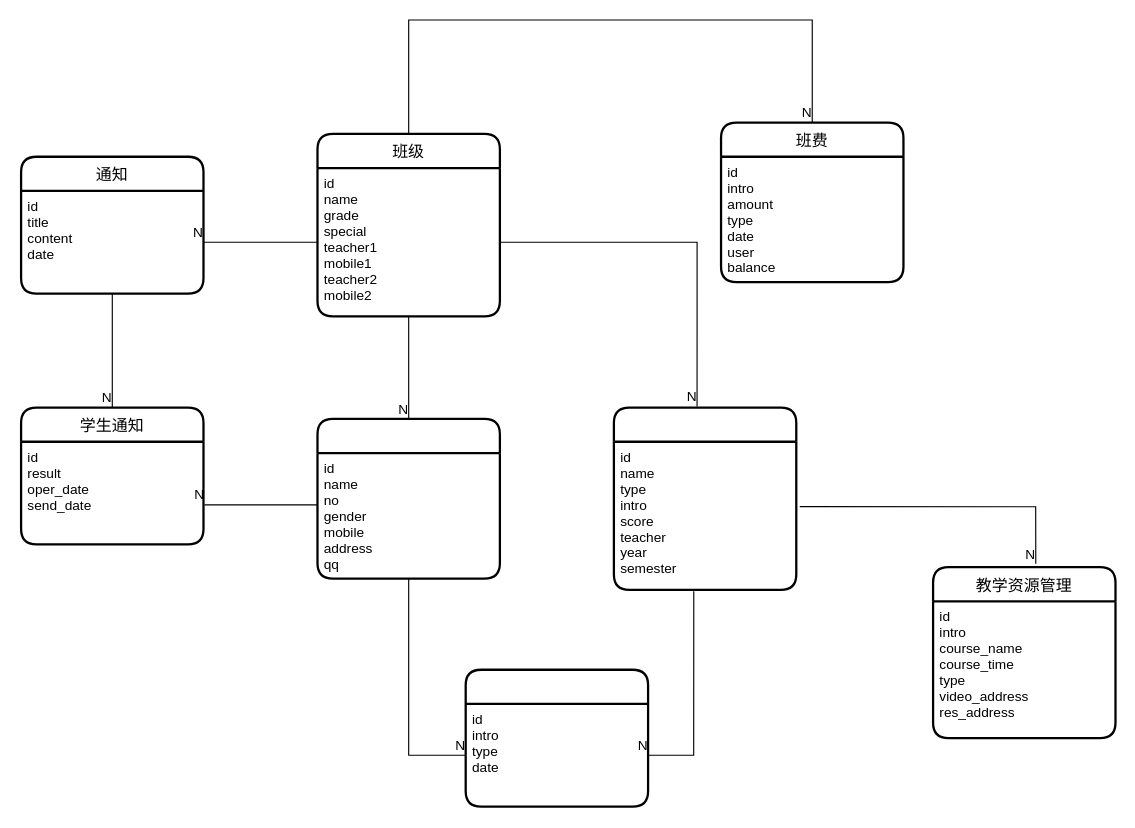
This 1135x828 diagram has some shape labels left out. The shapes that lost their labels are listed below. From the top down, each one's box as (x1, y1, x2, y2) in pixels, then its label:
(316, 417, 500, 579): 学生
(612, 406, 797, 591): 课程
(464, 668, 649, 807): 考勤
